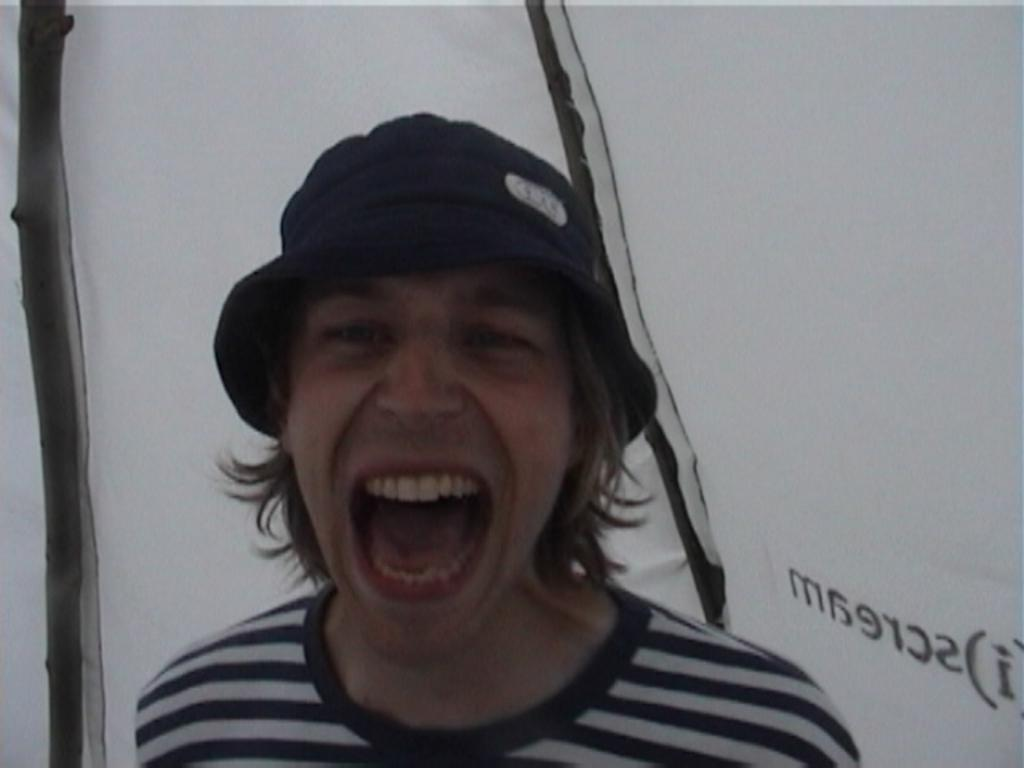Hat: (212, 111, 662, 449)
